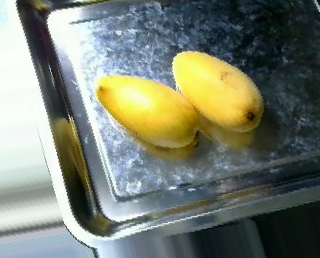Mango: (168, 43, 269, 139), (95, 72, 201, 153)
